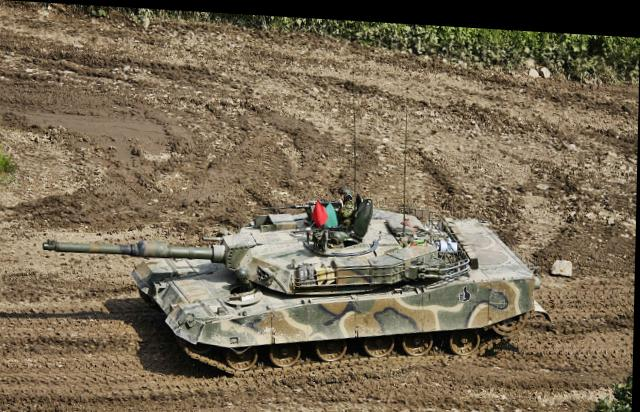tank: (134, 187, 533, 376)
